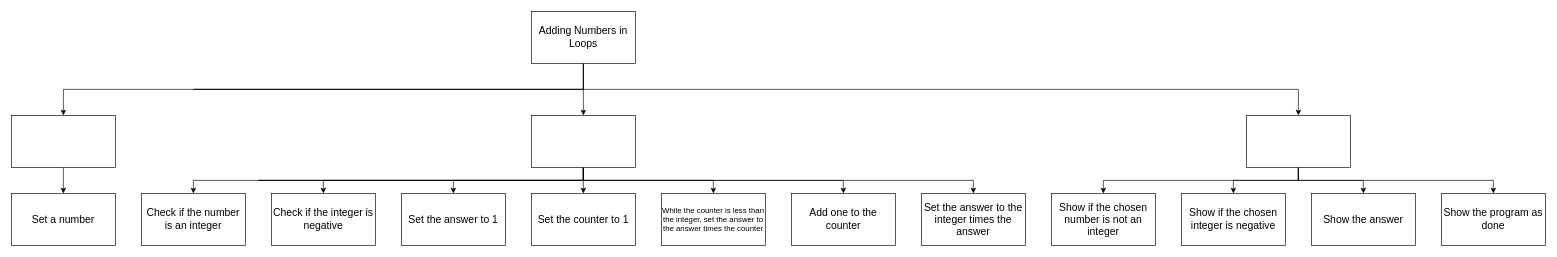
Some shapes in this 1557 by 257 pixel diagram are drawn without their labels. The centre of each missing label's shape, as x and y in pixels:
"Input" goes at point 63,141.
"Output" goes at point 1298,141.
"Process" goes at point 583,141.
